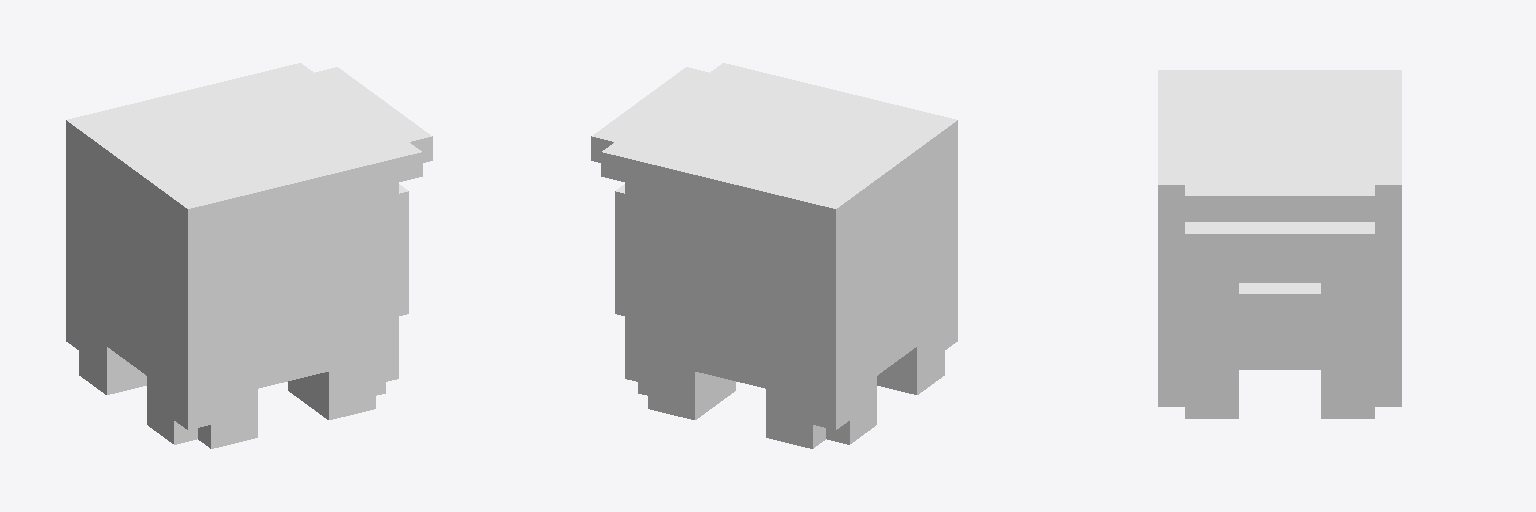
The model's file is F_Nightstand.obj.
3 renders of one model, left to right at view 1: azimuth 30°, elevation 25°; view 2: azimuth 150°, elevation 25°; view 3: azimuth 270°, elevation 25°, orthographic.
Parts seen in each view (by area): view 1: object 1; view 2: object 1; view 3: object 1.
Part boxes in pixels (x1,y1,x2,y2): object 1: (66, 63, 432, 448); object 1: (591, 63, 957, 448); object 1: (1158, 70, 1401, 418).
Bounding box in the file's own units: 1.1 × 1 × 0.9.